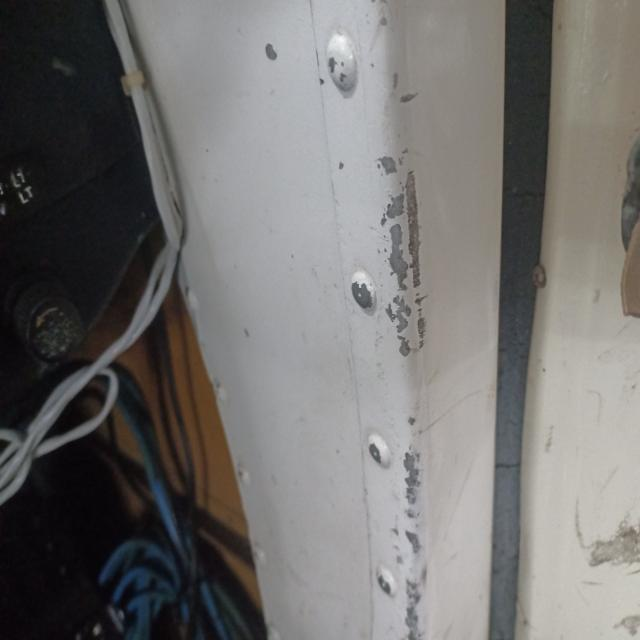Rupture: (354, 74, 455, 640), (551, 406, 640, 640)
